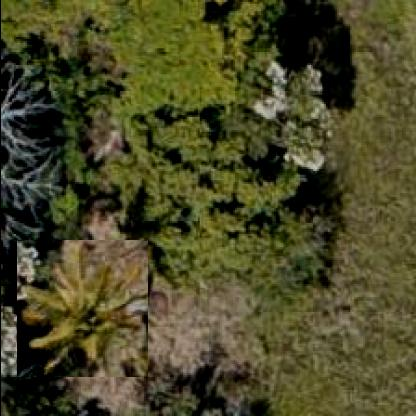coconut tree: (16, 239, 148, 377)
